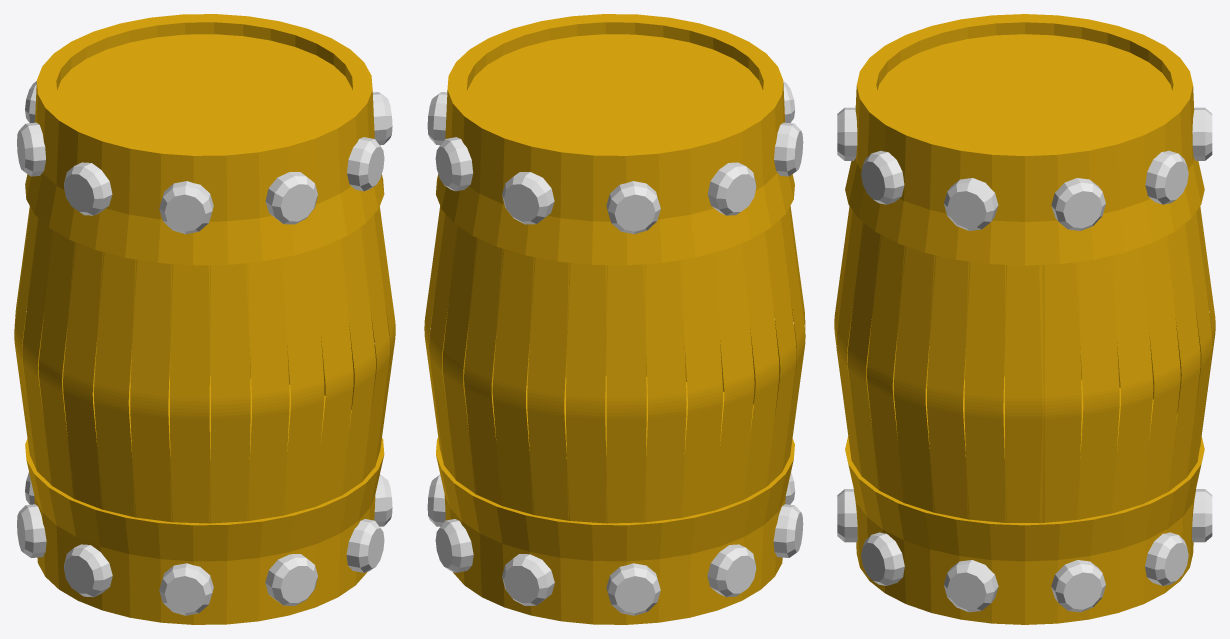
File: barrel.fbx
The picture shows the model from 3 angles, left to right: view 1: azimuth 30°, elevation 25°; view 2: azimuth 150°, elevation 25°; view 3: azimuth 270°, elevation 25°; orthographic projection.
Visible parts, largest first — view 1: Cylinder.002; view 2: Cylinder.002; view 3: Cylinder.002.
Part boxes in pixels (x1,y1,x2,y2): Cylinder.002: (14, 14, 395, 624); Cylinder.002: (424, 14, 805, 624); Cylinder.002: (834, 14, 1215, 624).
Size of the model in its own units: 64.56 by 87.67 by 64.63.
